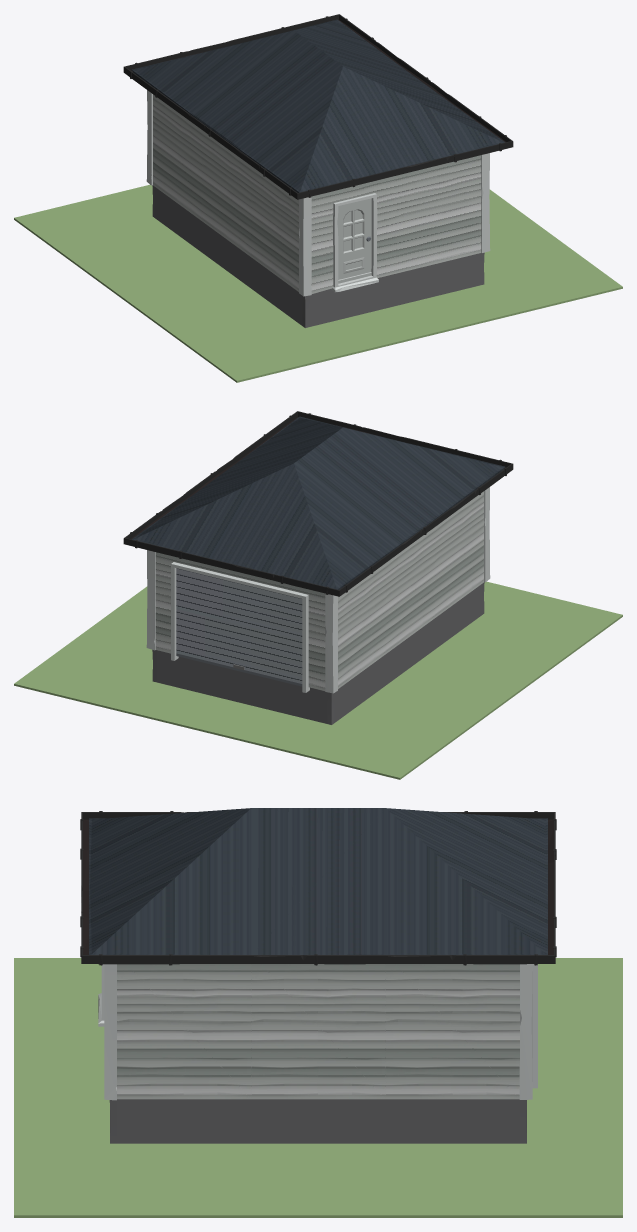
File: villa.glb
The picture shows the model from 3 angles, top to bottom: view 1: azimuth 30°, elevation 25°; view 2: azimuth 150°, elevation 25°; view 3: azimuth 270°, elevation 25°; orthographic projection. The views are drawn at different scales.
Parts seen in each view (by area): view 1: Villa, Ground; view 2: Villa, Ground; view 3: Villa, Ground.
Part boxes in pixels (x1=…): Villa: x1=123, y1=14, x2=513, y2=327; Ground: x1=14, y1=184, x2=622, y2=382; Villa: x1=123, y1=411, x2=513, y2=724; Ground: x1=14, y1=581, x2=622, y2=779; Villa: x1=80, y1=808, x2=556, y2=1143; Ground: x1=14, y1=958, x2=622, y2=1217.
Size of the model in its own units: 32 by 16.3 by 32.
Materials: 2 (1 with a texture image).
